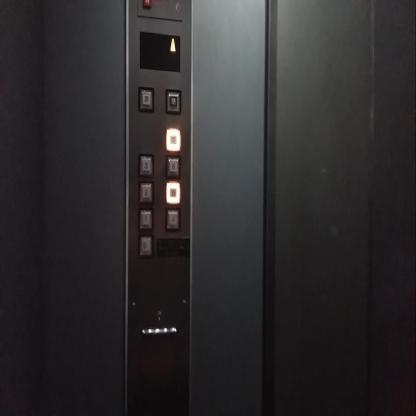1: (137, 204, 154, 232)
2: (137, 178, 154, 206)
3: (137, 150, 154, 178)
4: (164, 206, 181, 233)
5: (164, 178, 181, 206)
6: (164, 152, 181, 180)
7: (164, 125, 181, 153)
B: (137, 231, 154, 259)
led: (138, 27, 181, 74)
text_close door: (164, 84, 181, 115)
text_open door: (138, 83, 154, 114)
